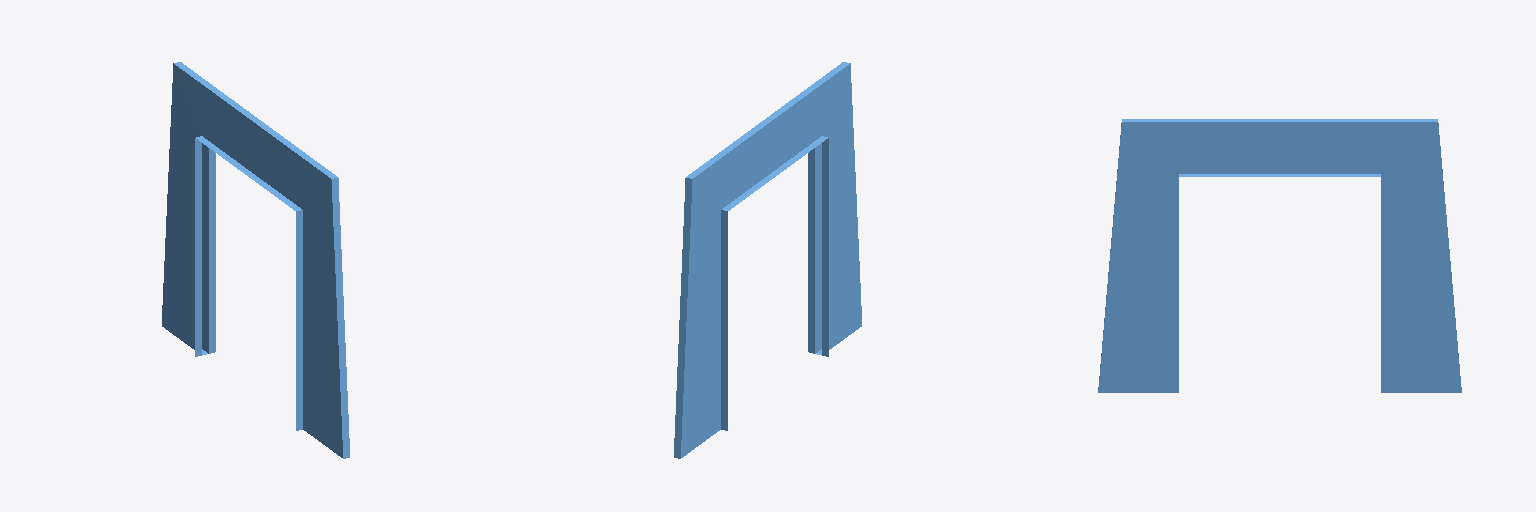
File: Door-Type-2-Frame.obj
3 views of the same model, side by side, from view 1: azimuth 30°, elevation 25°; view 2: azimuth 150°, elevation 25°; view 3: azimuth 270°, elevation 25° (orthographic).
Visible parts, largest first — view 1: Door-Type-2-Frame; view 2: Door-Type-2-Frame; view 3: Door-Type-2-Frame.
Part boxes in pixels (x1,y1,x2,y2): Door-Type-2-Frame: (162,62,349,458); Door-Type-2-Frame: (674,62,861,458); Door-Type-2-Frame: (1098,119,1461,392).
Size of the model in its own units: 0.3 by 3.71 by 4.5.